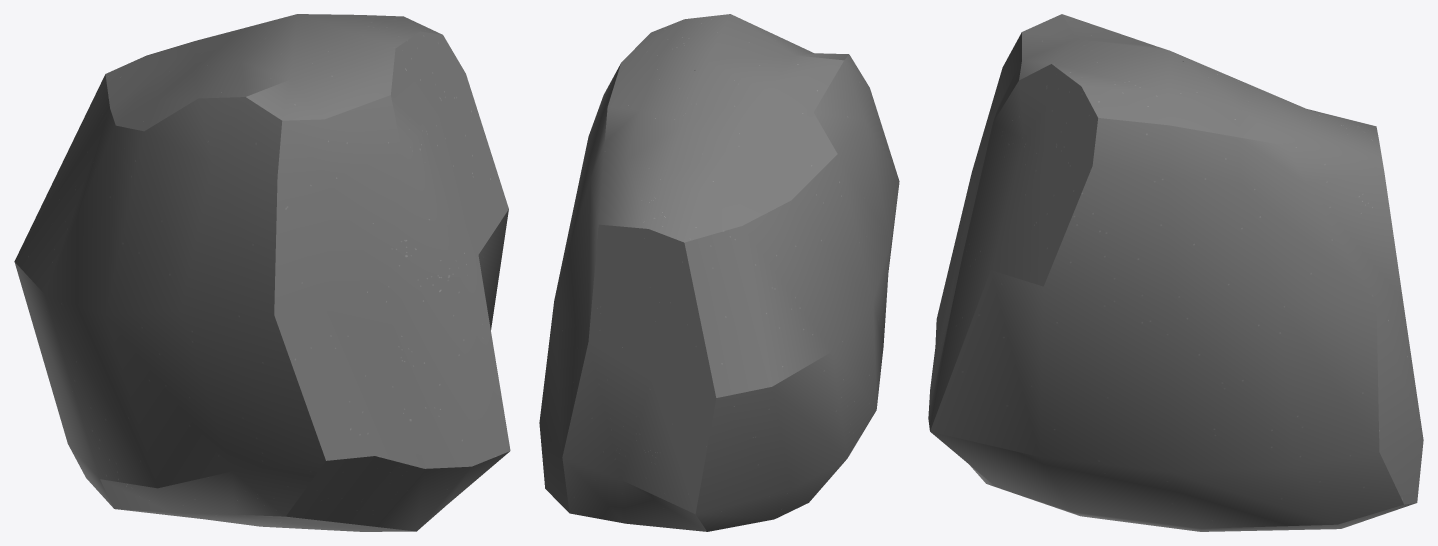
File: Boulder L.fbx
3 views of the same model, side by side, from view 1: azimuth 30°, elevation 25°; view 2: azimuth 150°, elevation 25°; view 3: azimuth 270°, elevation 25° (orthographic). The views are drawn at different scales.
Visible parts, largest first — view 1: Boulder L; view 2: Boulder L; view 3: Boulder L.
Boxes of the visible parts, x1,y1,x2,y2 form: Boulder L: (14,14,510,531); Boulder L: (539,14,899,531); Boulder L: (928,14,1423,531).
Size of the model in its own units: 2473 by 3500 by 3262.
